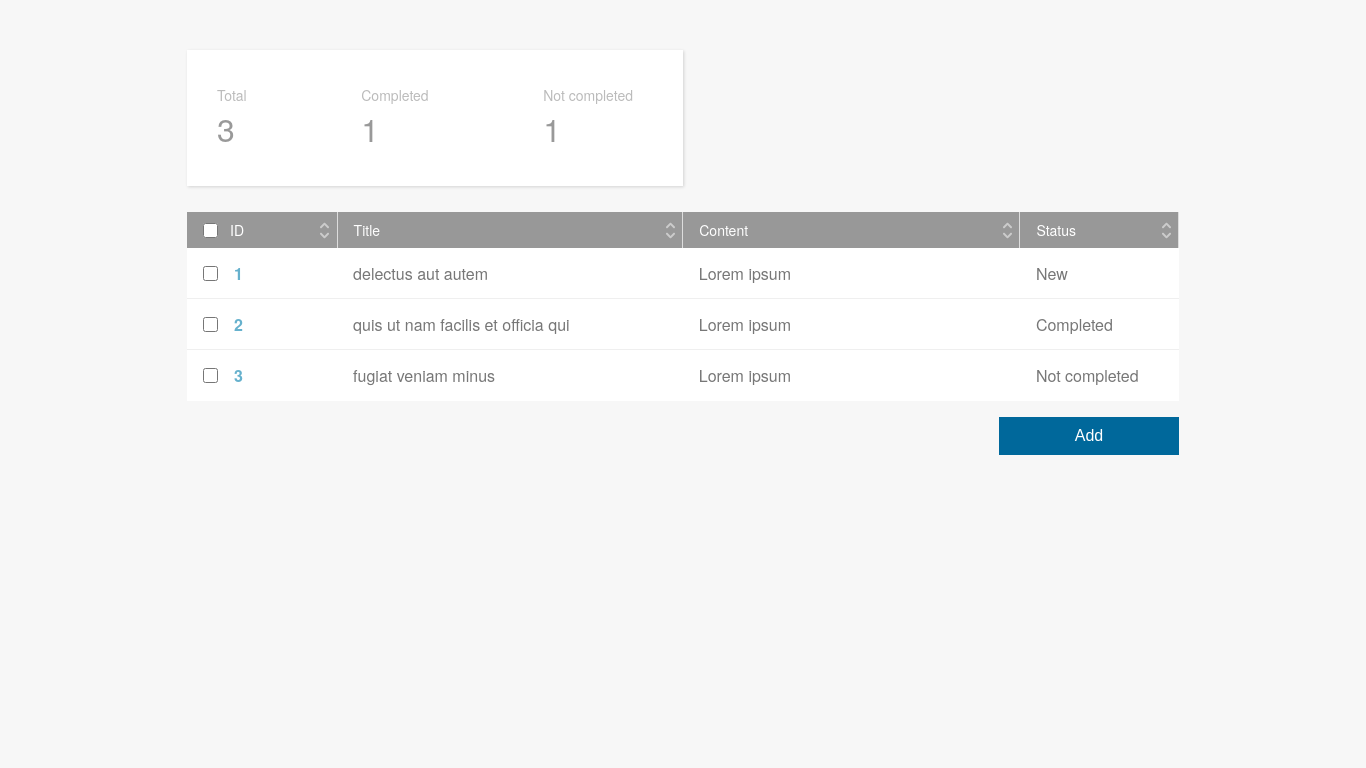
Test: Notes handling › deletes all todos
The width and height of the screenshot is (1366, 768).
Expected: the element with class "todos-table__button-add" is enabled
Step 1. Click the checkbox with id "check-all" → (211, 231), box 203,223 -> 218,238
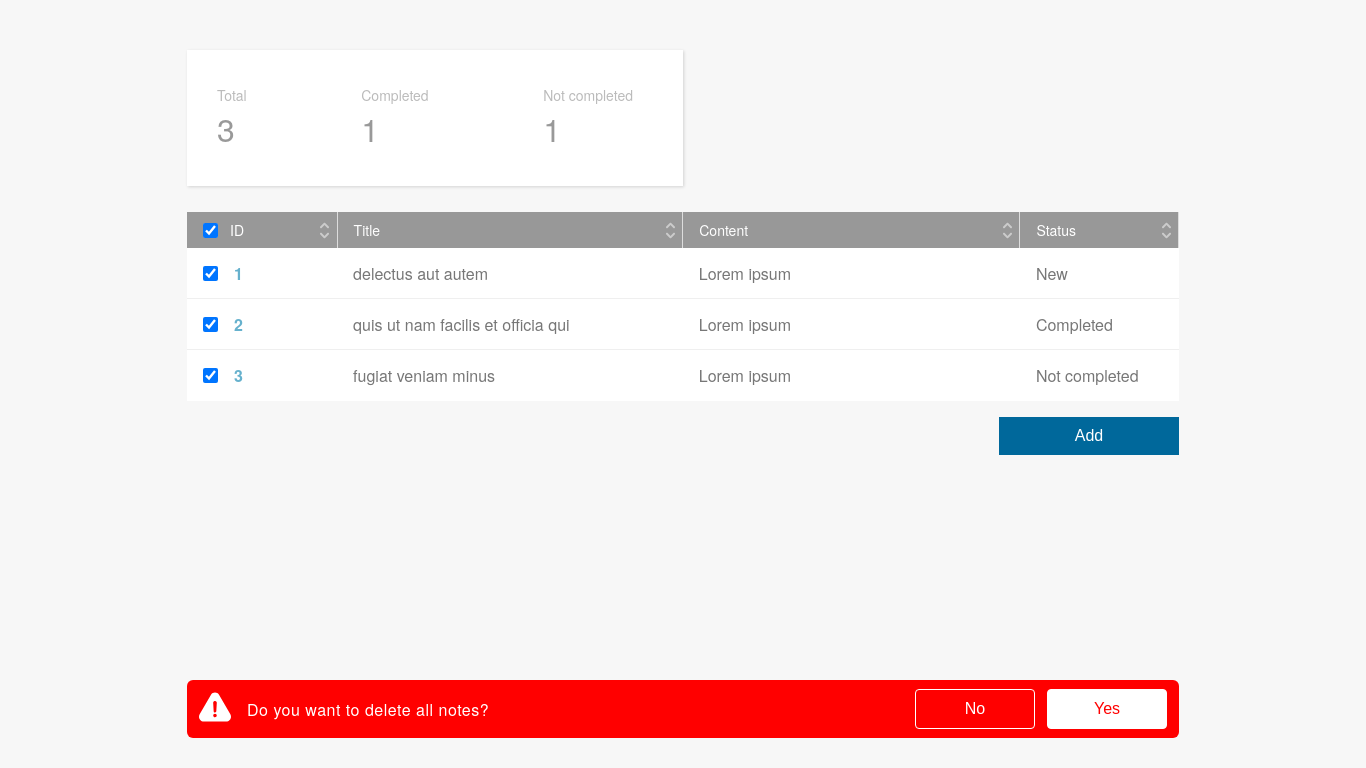
Step 2. Click the button "Yes" → (1107, 709), box 1047,689 -> 1167,729
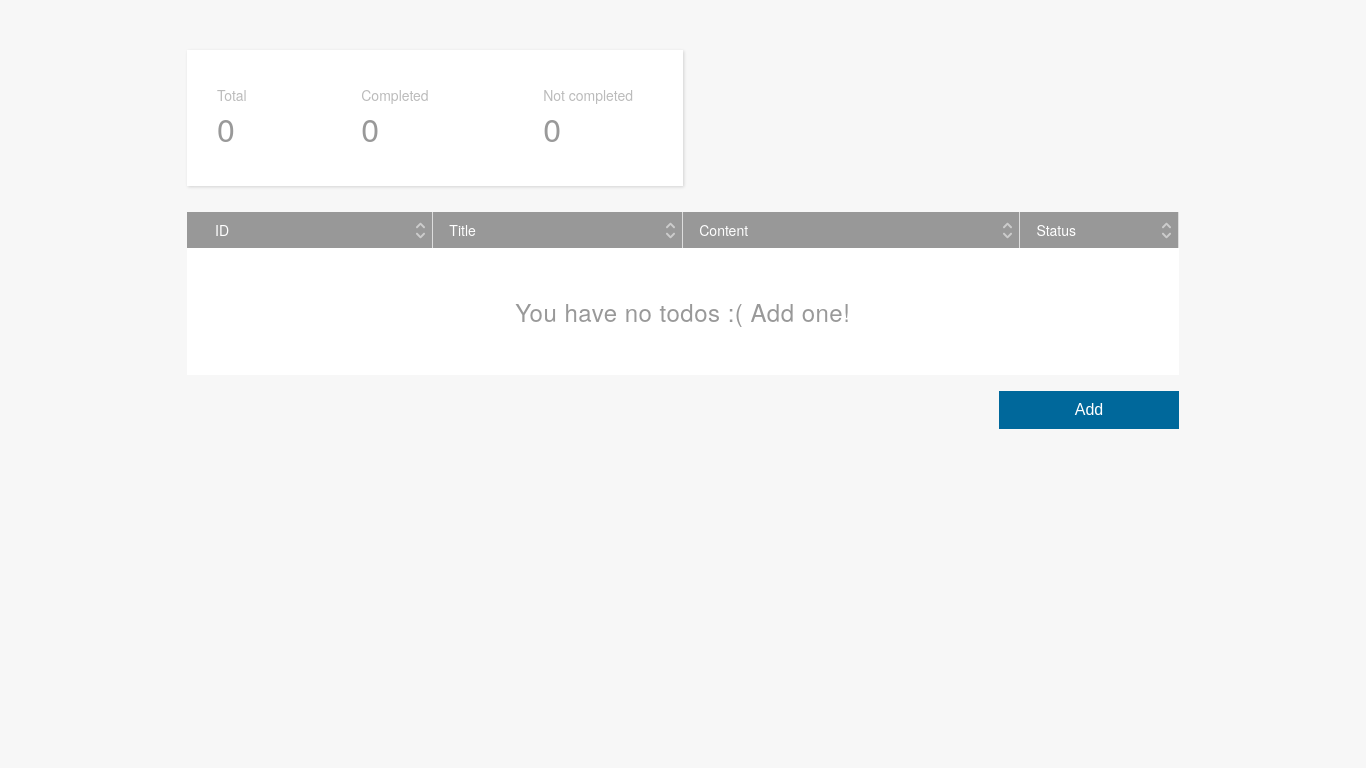
Expected: the text "You have no todos :( Add one!" is shown, 515,294 -> 850,329
